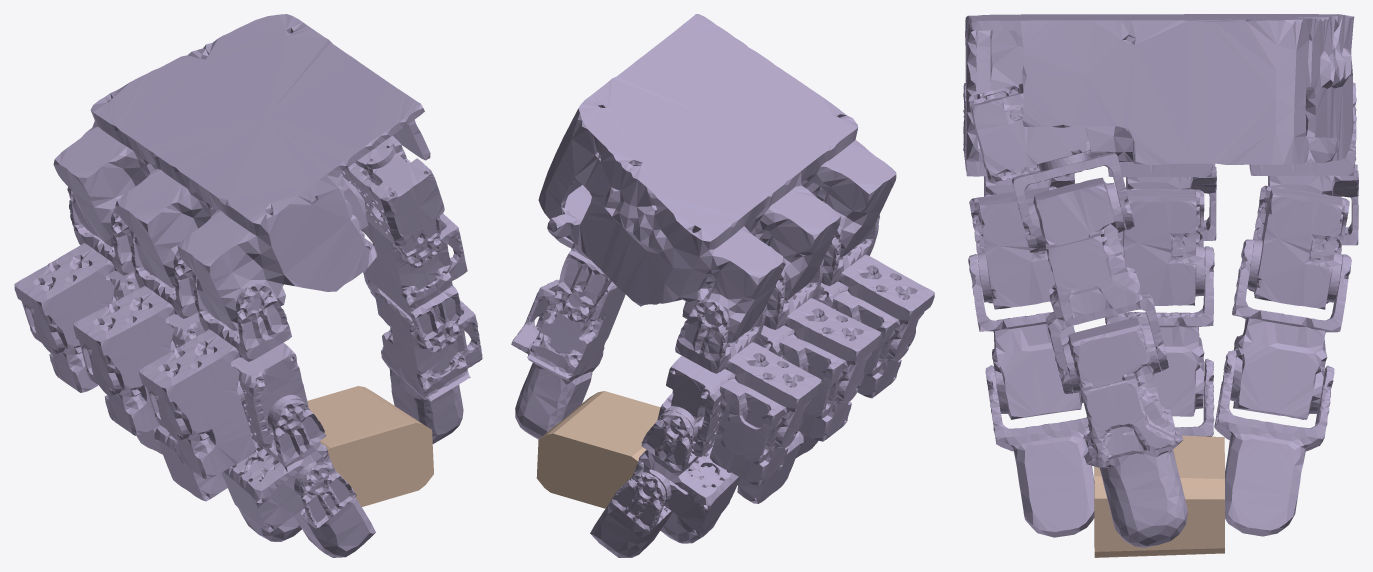
The model's file is case-03.glb.
3 views of the same model, side by side, from view 1: azimuth 30°, elevation 25°; view 2: azimuth 150°, elevation 25°; view 3: azimuth 270°, elevation 25° (orthographic). The views are drawn at different scales.
Parts seen in each view (by area): view 1: world, surface.obj; view 2: world, surface.obj; view 3: world, surface.obj.
Boxes of the visible parts, x1,y1,x2,y2 form: world: [14, 14, 482, 557]; surface.obj: [307, 386, 433, 506]; world: [511, 14, 934, 557]; surface.obj: [536, 391, 660, 508]; world: [963, 14, 1358, 547]; surface.obj: [1094, 435, 1224, 557].
Bounding box in the file's own units: 0.1613 × 0.1952 × 0.1266.
